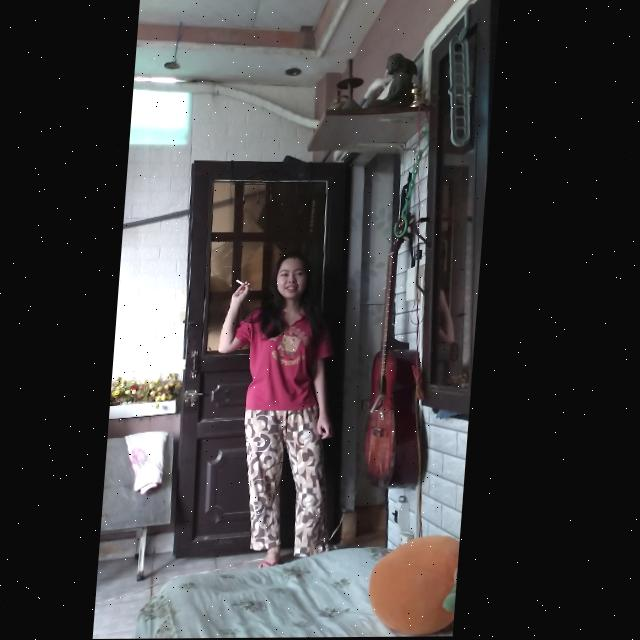cigarette: (240, 280, 258, 291)
